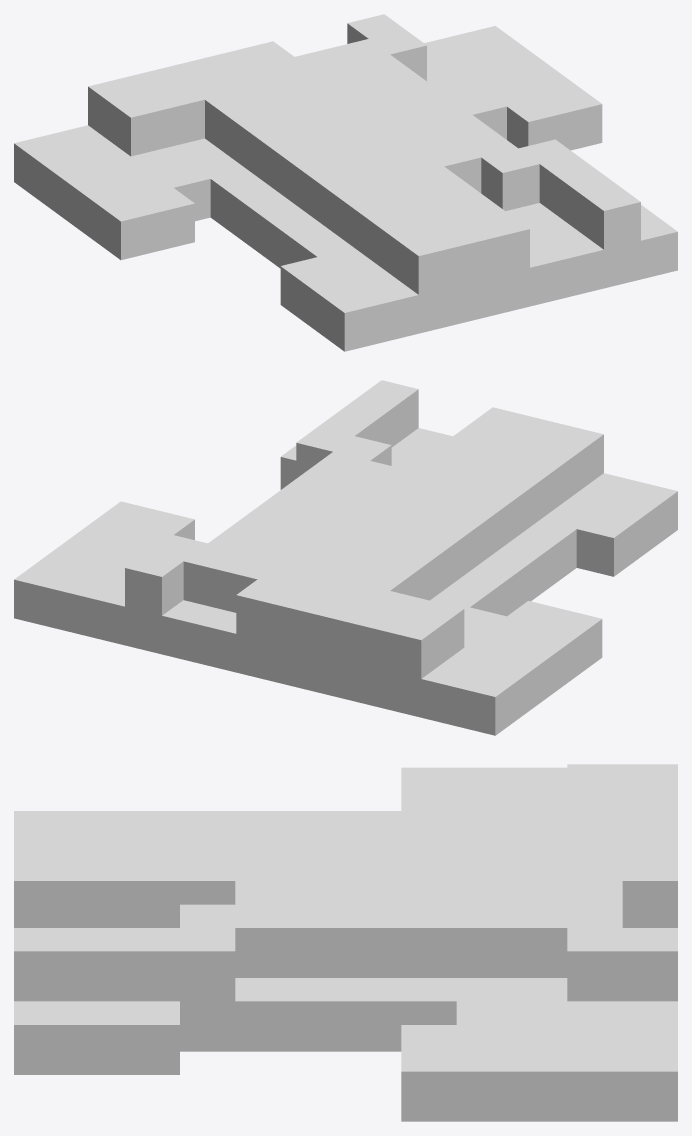
Rendered from Robe.obj.
The picture shows the model from 3 angles, top to bottom: view 1: azimuth 30°, elevation 25°; view 2: azimuth 150°, elevation 25°; view 3: azimuth 270°, elevation 25°; orthographic projection. The views are drawn at different scales.
Parts seen in each view (by area): view 1: Robe; view 2: Robe; view 3: Robe.
Boxes of the visible parts, box(x1,y1,x2,y2) form: Robe: box(14, 14, 677, 351); Robe: box(14, 380, 677, 735); Robe: box(14, 764, 677, 1121).
Size of the model in its own units: 13 by 2 by 12.
Materials: 1 (1 with a texture image).
